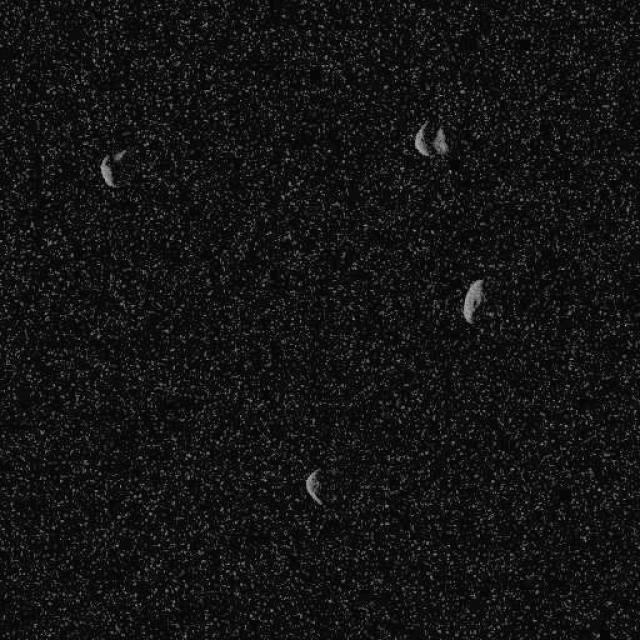D2: (412, 119, 448, 158), (98, 148, 128, 188), (461, 278, 485, 324), (304, 468, 324, 507)
